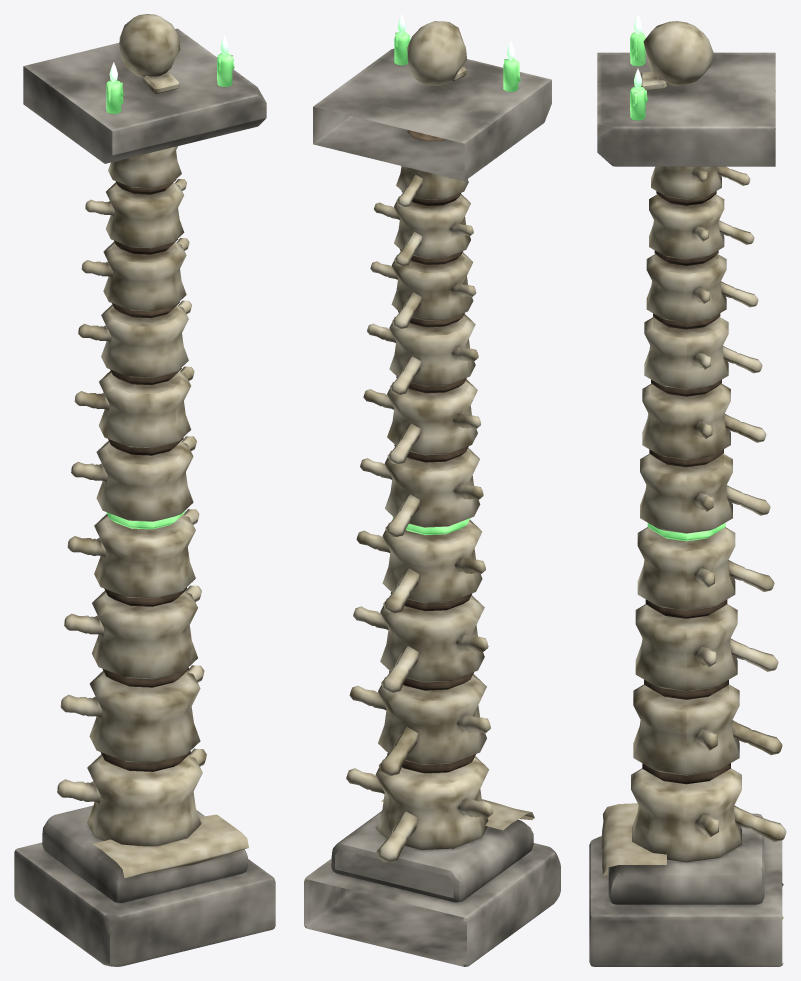
File: Ossuary_Pillar.fbx
The picture shows the model from 3 angles, left to right: view 1: azimuth 30°, elevation 25°; view 2: azimuth 150°, elevation 25°; view 3: azimuth 270°, elevation 25°; orthographic projection.
Visible parts, largest first — view 1: Ossuary_Pillar; view 2: Ossuary_Pillar; view 3: Ossuary_Pillar.
Boxes of the visible parts, x1,y1,x2,y2 form: Ossuary_Pillar: [14, 14, 275, 966]; Ossuary_Pillar: [304, 14, 560, 966]; Ossuary_Pillar: [589, 14, 786, 966].
Size of the model in its own units: 1 by 5.13 by 1.01.
